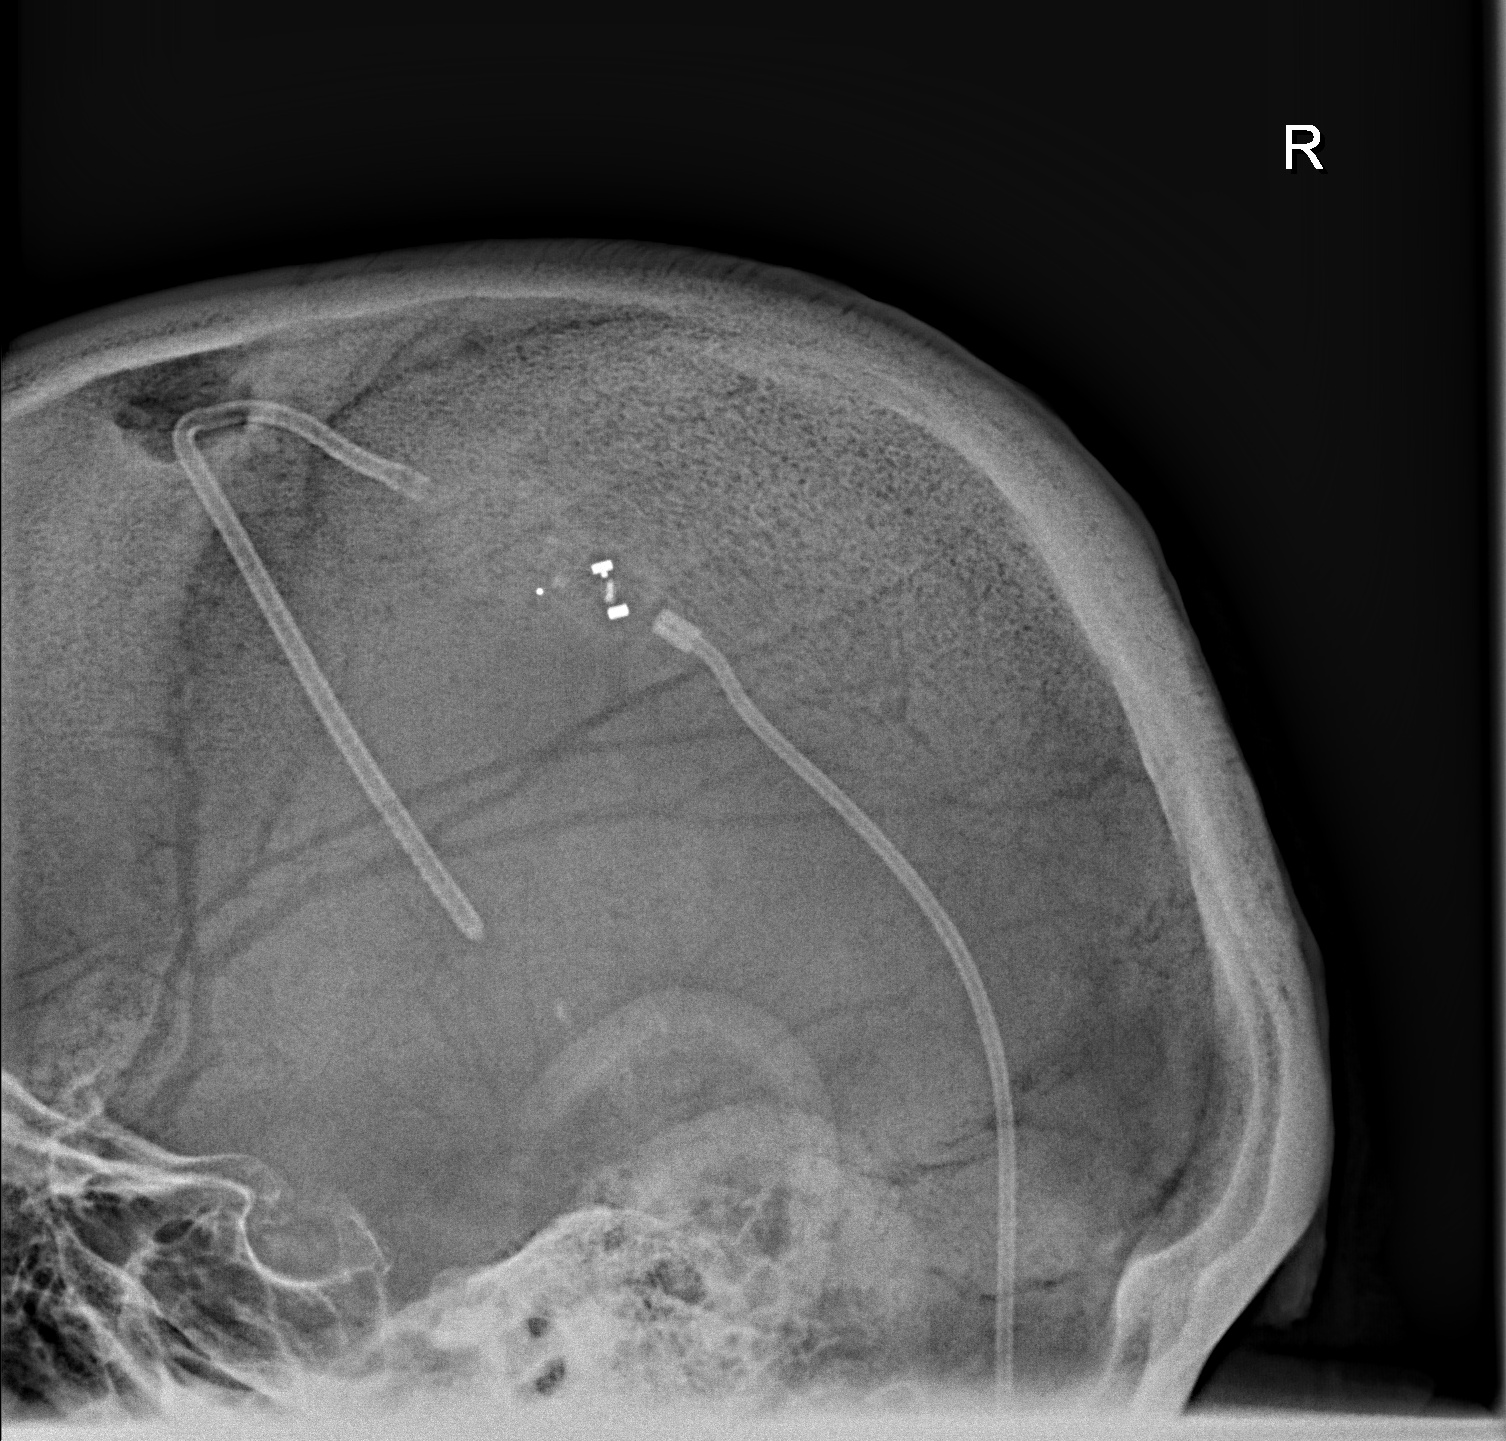Codman Certas: (512, 531, 676, 665)
